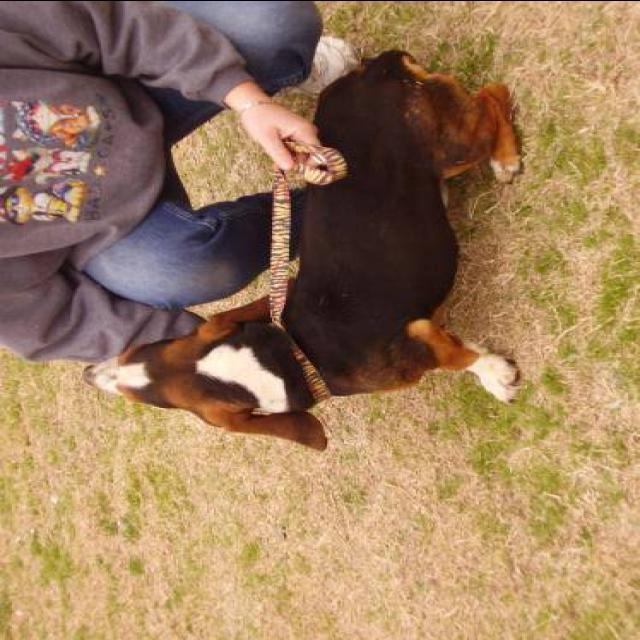dog: (81, 41, 549, 446)
